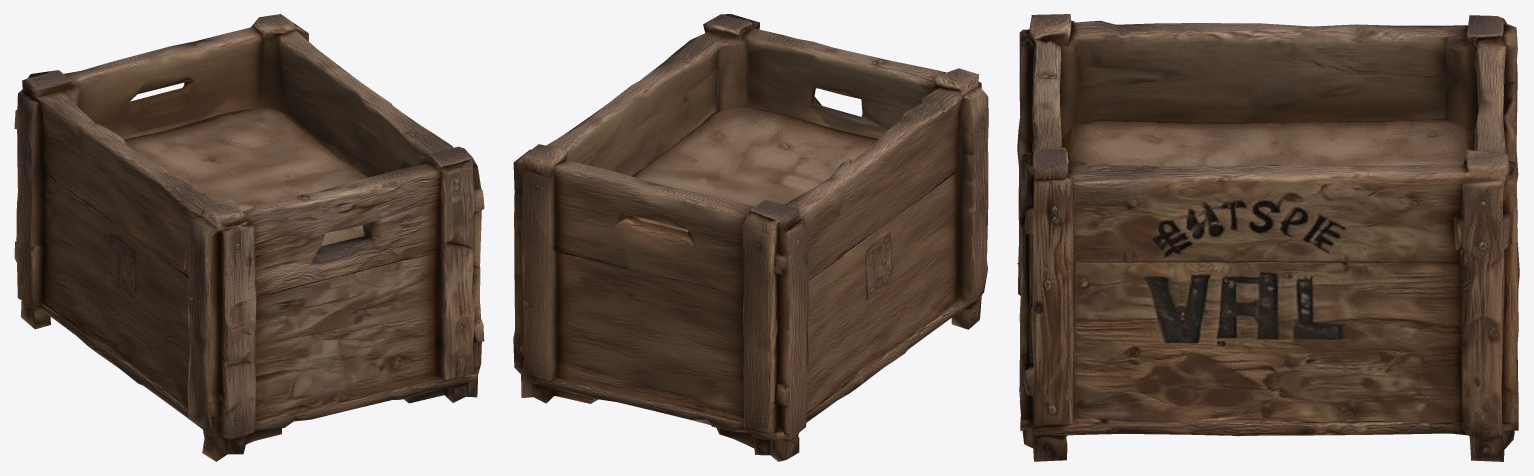
File: crate.glb
3 views of the same model, side by side, from view 1: azimuth 30°, elevation 25°; view 2: azimuth 150°, elevation 25°; view 3: azimuth 270°, elevation 25° (orthographic). The views are drawn at different scales.
Visible parts, largest first — view 1: tripo_node_5d18f9e8-1f8b-45fa-8460-69a6f39205bf; view 2: tripo_node_5d18f9e8-1f8b-45fa-8460-69a6f39205bf; view 3: tripo_node_5d18f9e8-1f8b-45fa-8460-69a6f39205bf.
Boxes of the visible parts, <box> form: tripo_node_5d18f9e8-1f8b-45fa-8460-69a6f39205bf: <box>14,14,484,461</box>; tripo_node_5d18f9e8-1f8b-45fa-8460-69a6f39205bf: <box>513,14,988,461</box>; tripo_node_5d18f9e8-1f8b-45fa-8460-69a6f39205bf: <box>1017,14,1519,461</box>.
Size of the model in its own units: 0.553 by 0.45 by 0.6912.
Materials: 1 (1 with a texture image).
